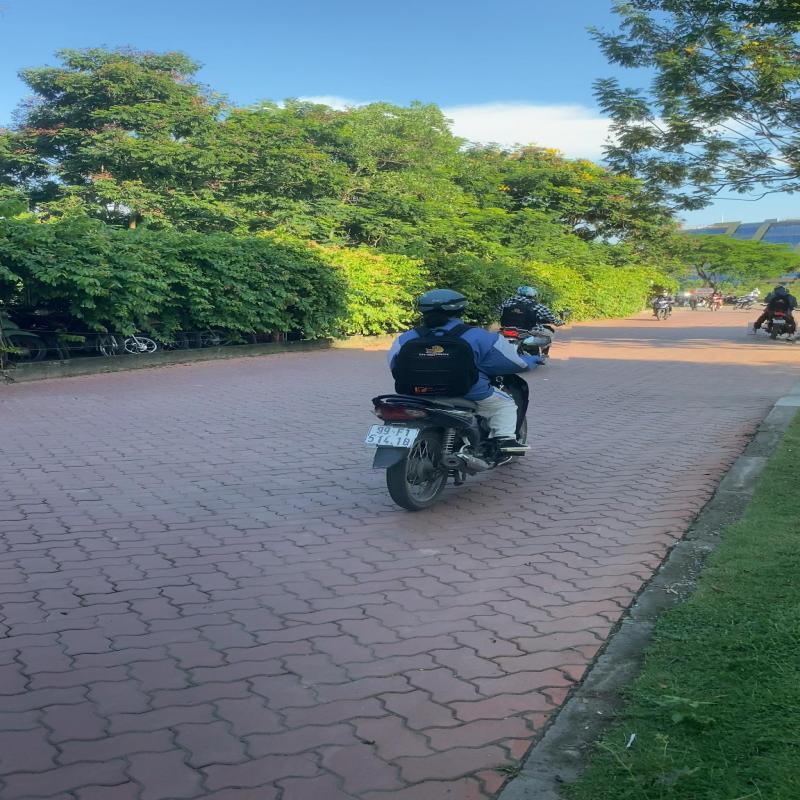helmet: (416, 291, 473, 318), (517, 286, 540, 299), (774, 286, 786, 292)
licenseplate: (366, 424, 420, 450), (772, 320, 786, 324)
motorcyclist: (364, 288, 564, 513), (493, 284, 574, 366), (748, 284, 800, 343)
